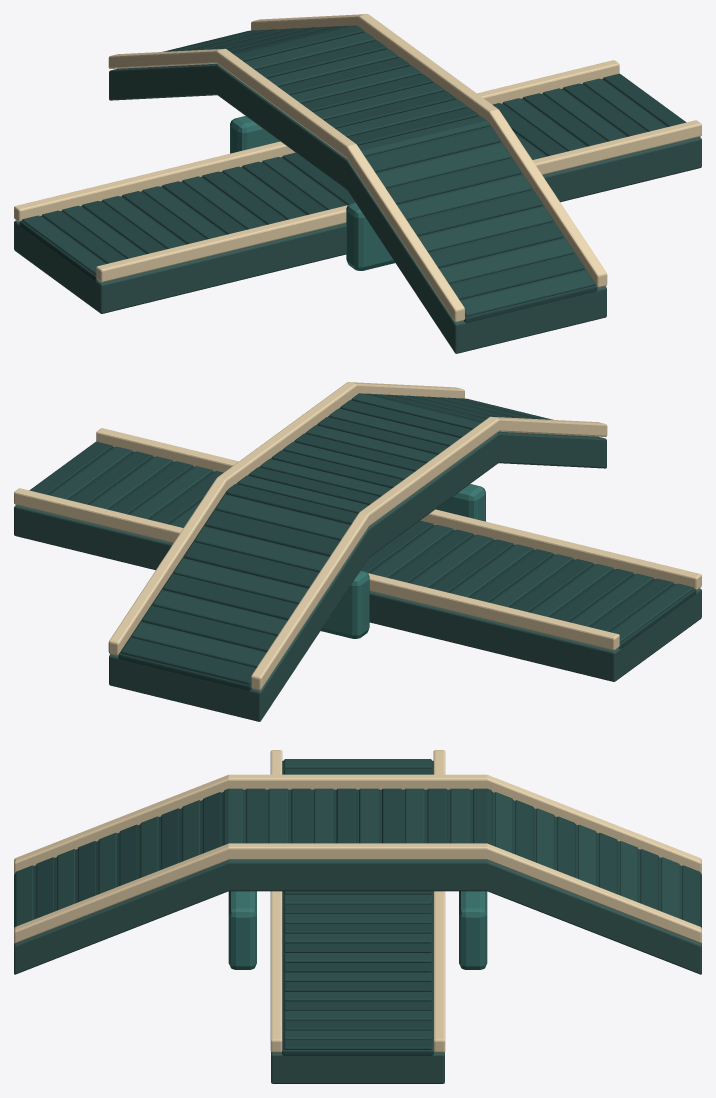
File: Belt_Raised_Crossing.fbx
The picture shows the model from 3 angles, top to bottom: view 1: azimuth 30°, elevation 25°; view 2: azimuth 150°, elevation 25°; view 3: azimuth 270°, elevation 25°; orthographic projection.
Visible parts, largest first — view 1: Slats, Body, BeltSurface; view 2: Slats, Body, BeltSurface; view 3: Slats, Body, BeltSurface.
Boxes of the visible parts, x1,y1,x2,y2 form: Slats: [22, 25, 686, 316]; Body: [14, 14, 701, 353]; BeltSurface: [19, 31, 667, 323]; Slats: [29, 393, 693, 684]; Body: [14, 382, 701, 721]; BeltSurface: [48, 399, 696, 691]; Slats: [15, 759, 700, 1049]; Body: [14, 750, 701, 1083]; BeltSurface: [14, 760, 701, 1055].
Size of the model in its own units: 4.9 by 1.02 by 4.9.
